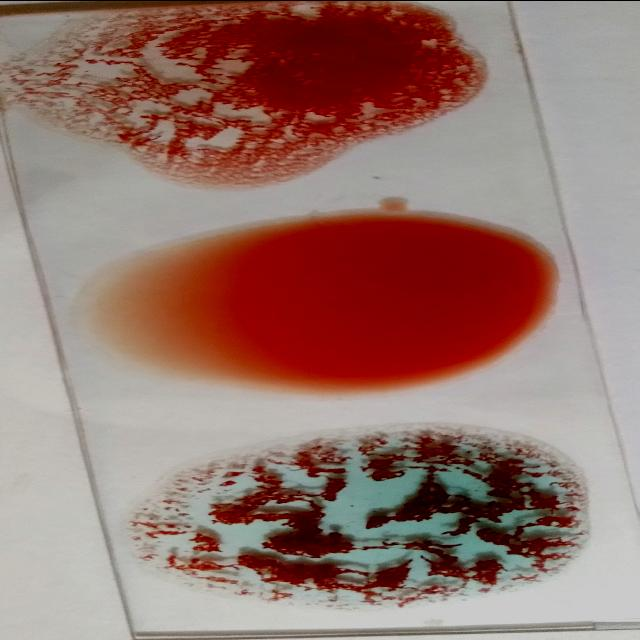A: (134, 438, 594, 600)
D: (19, 0, 480, 165)
